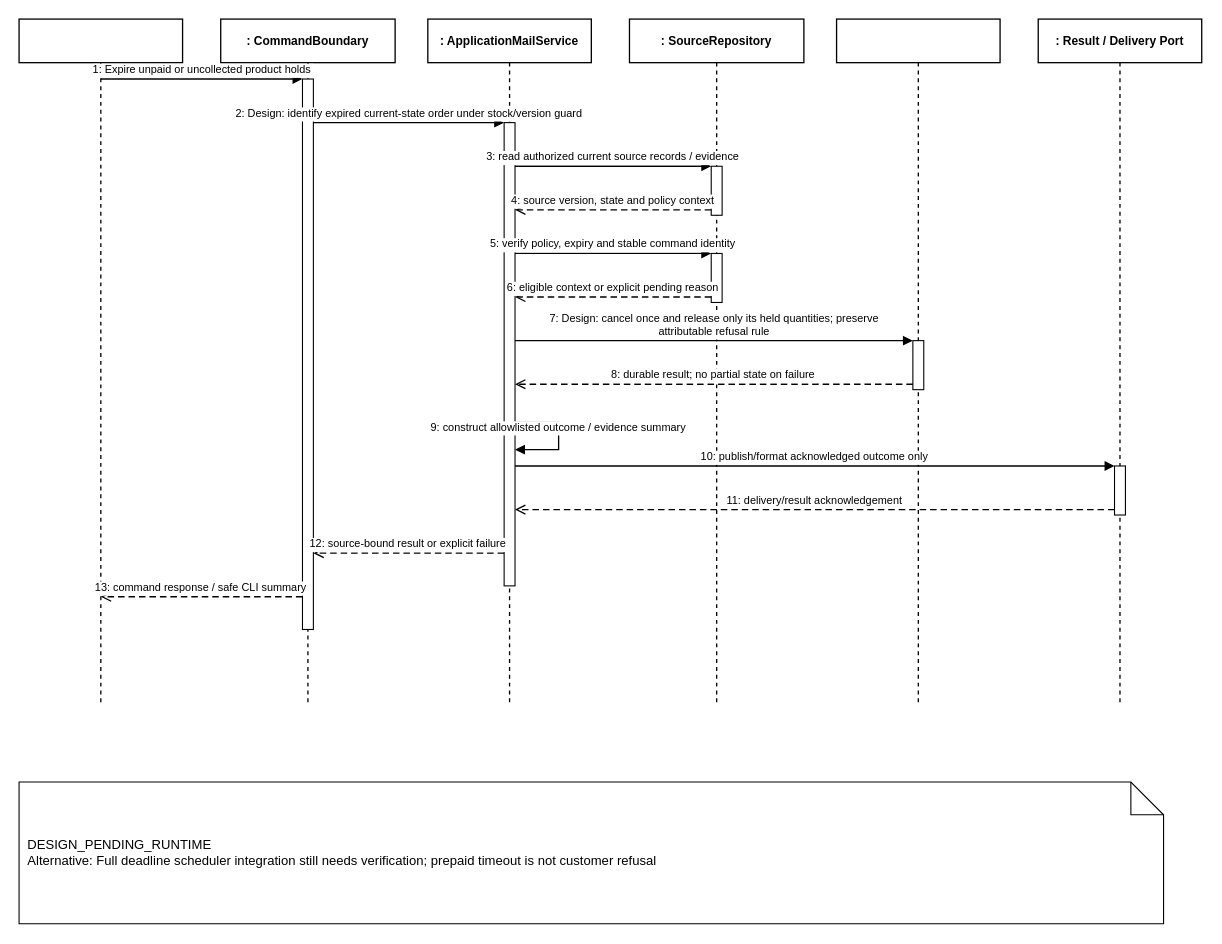
Some shapes in this 1222 by 944 pixel diagram are drawn without their labels. Each missing label, with the box of its shape:
: GuardedPersistence: (835, 18, 1000, 706)
Actor (Scheduled job): (18, 18, 183, 706)
